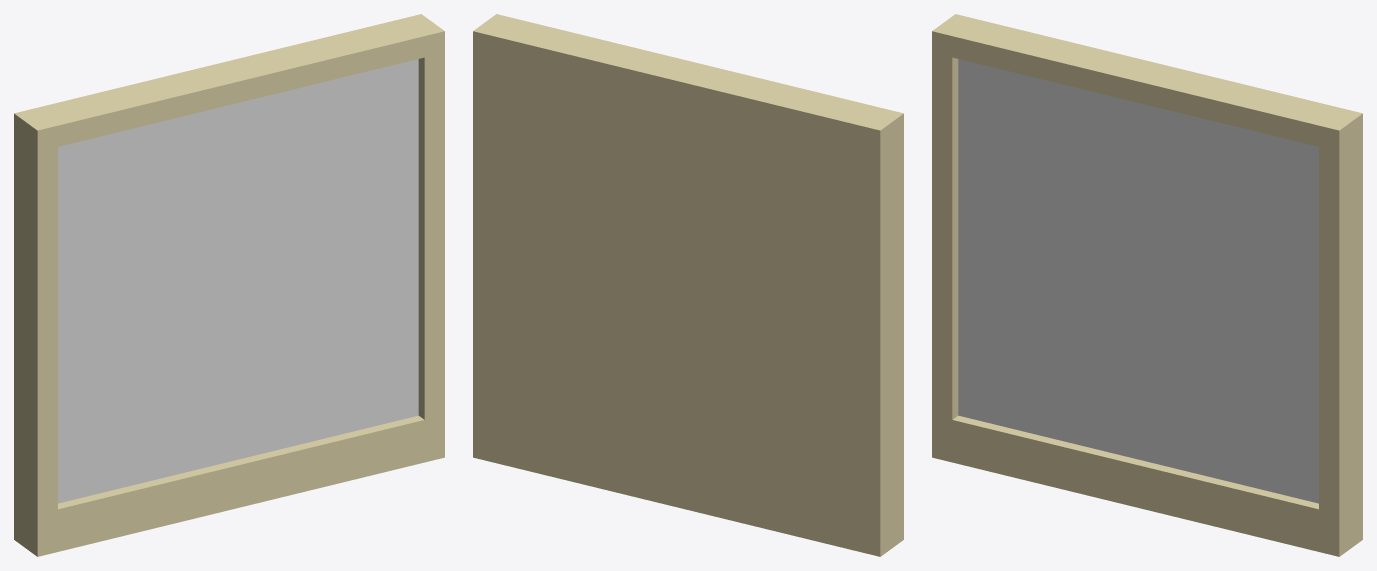
Rendered from CRTmonitor.fbx.
3 views of the same model, side by side, from view 1: azimuth 30°, elevation 25°; view 2: azimuth 150°, elevation 25°; view 3: azimuth 330°, elevation 25° (orthographic).
Visible parts, largest first — view 1: Screen, Monitor_2; view 2: Monitor_2; view 3: Screen, Monitor_2.
Part boxes in pixels (x1,y1,x2,y2): Screen: (58,59,418,503); Monitor_2: (14,14,444,556); Monitor_2: (473,14,903,556); Screen: (958,59,1318,503); Monitor_2: (932,14,1362,556).
Size of the model in its own units: 200 by 200 by 20.
